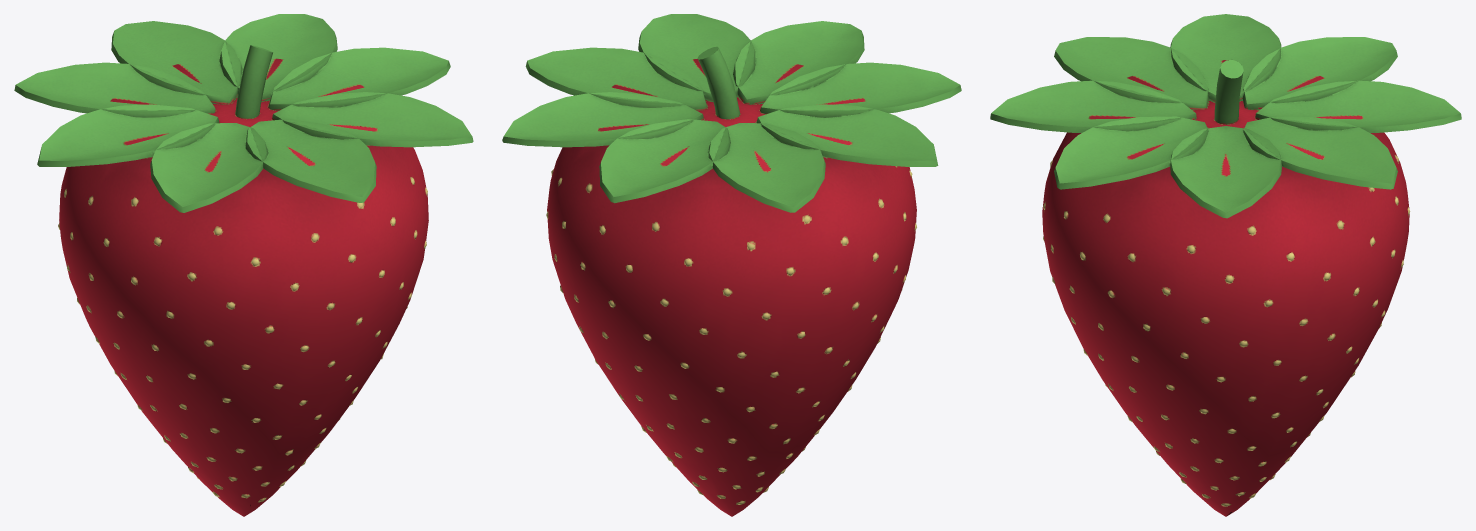
Rendered from SK_Strawberry.fbx.
3 views of the same model, side by side, from view 1: azimuth 30°, elevation 25°; view 2: azimuth 150°, elevation 25°; view 3: azimuth 270°, elevation 25° (orthographic).
Visible parts, largest first — view 1: SK_Strawberry; view 2: SK_Strawberry; view 3: SK_Strawberry.
Boxes of the visible parts, bbox=[...] form: SK_Strawberry: bbox=[14, 14, 473, 516]; SK_Strawberry: bbox=[502, 14, 961, 516]; SK_Strawberry: bbox=[990, 14, 1461, 516].
Size of the model in its own units: 394 by 427 by 394.
